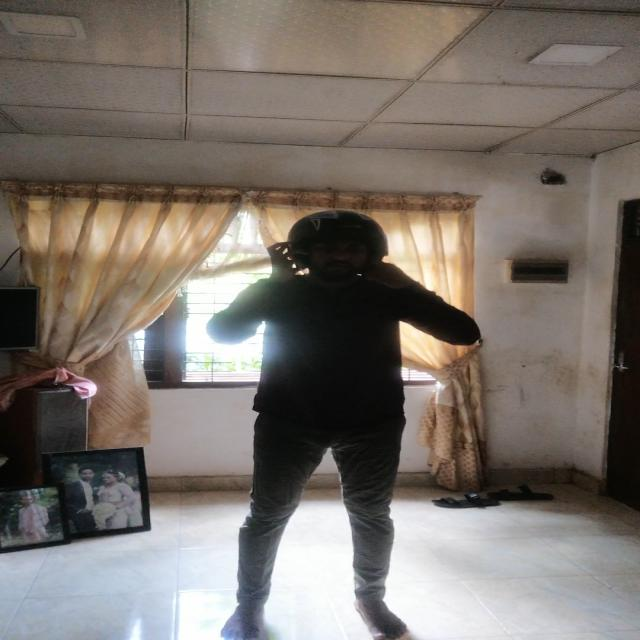Helmet_Wearer: (258, 208, 398, 299), (201, 249, 206, 250)
Person: (212, 202, 507, 640)
